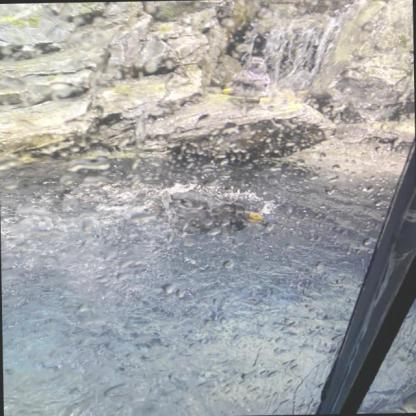puffin: (144, 189, 266, 238), (221, 66, 271, 106)
